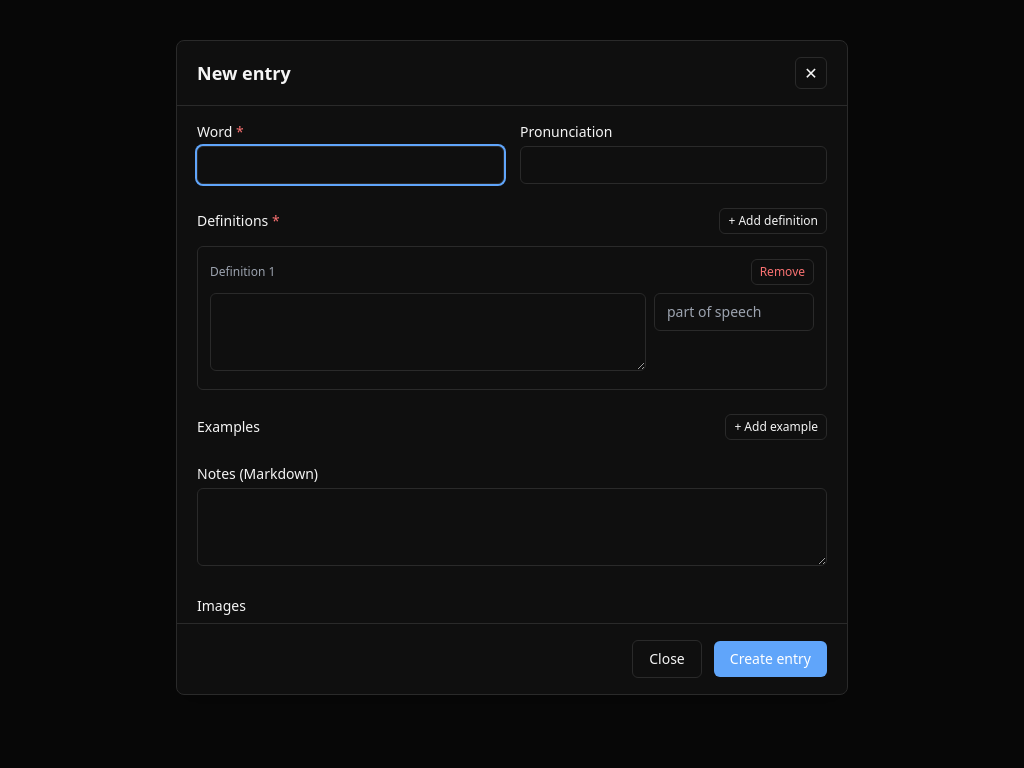
Scenario: EntryEditor › removes a definition row when its Remove button is clicked
Click the button "+ Add definition" at (773, 221), box [720,208,827,234]
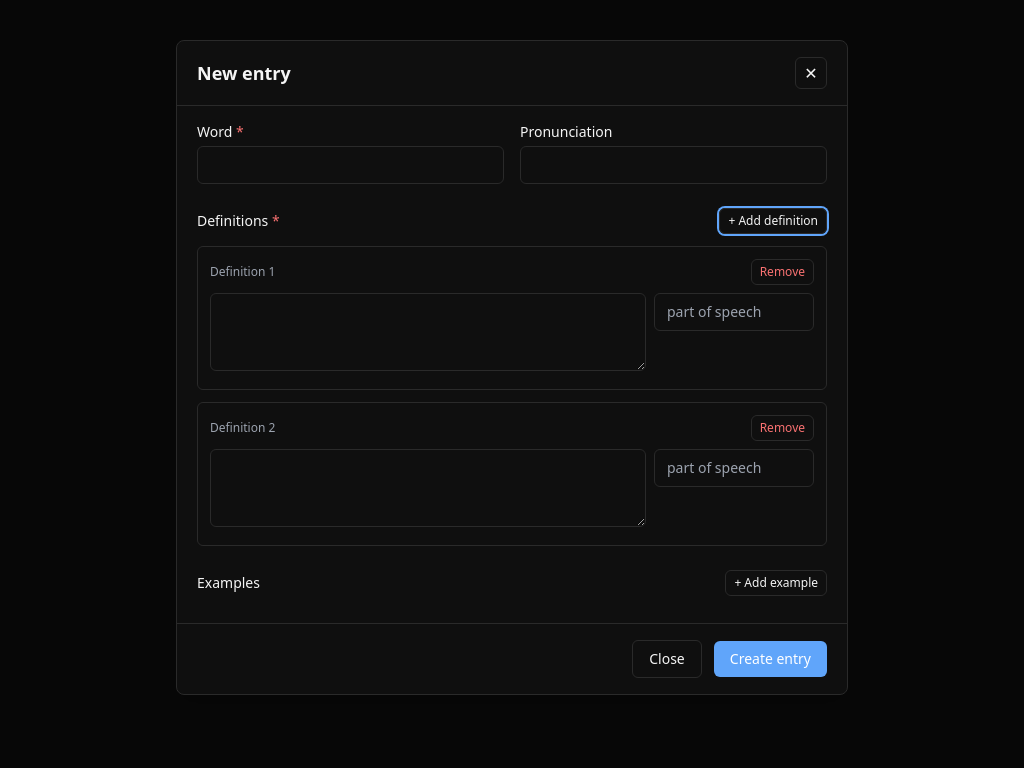
Expected: the number of text boxes named "Definition 1 text" is 2, [210,293,646,371]; [210,449,646,527]
Click the button with aria-label "remove definition 2" at (782, 428), box [751,415,814,441]
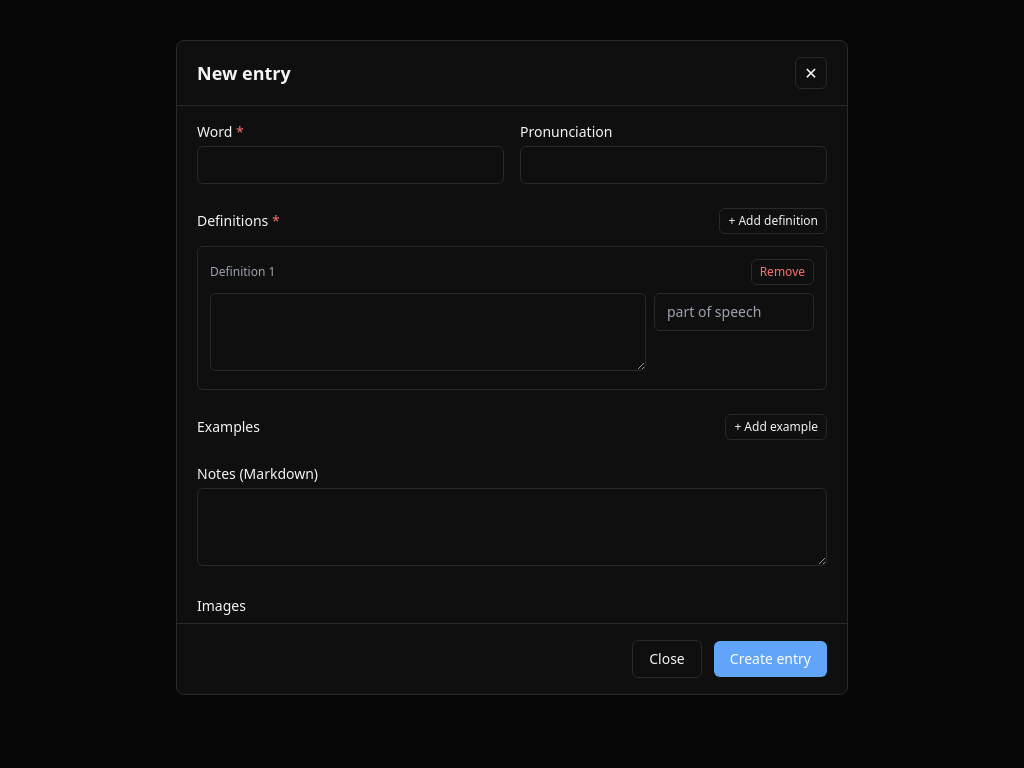
Expected: the number of text boxes named "Definition 1 text" is 1, [210,293,646,371]
